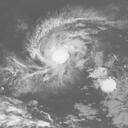cyclone: (41, 32, 79, 72)
